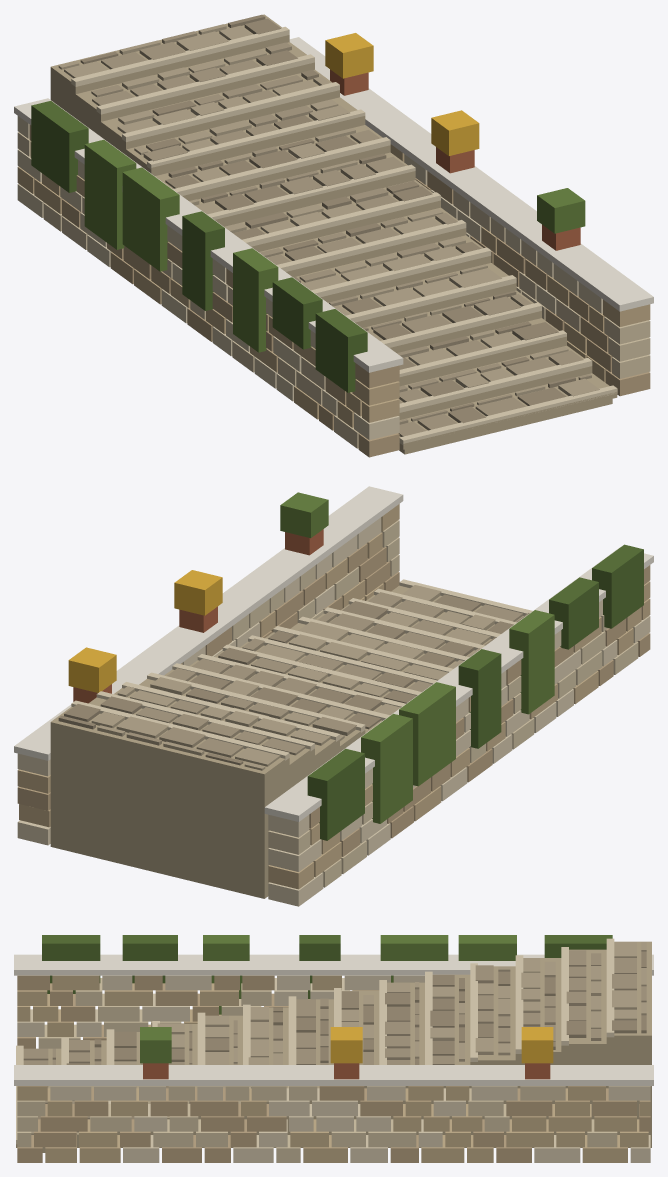
The model's file is merdivenli-sokak.glb.
3 renders of one model, top to bottom at view 1: azimuth 30°, elevation 25°; view 2: azimuth 150°, elevation 25°; view 3: azimuth 270°, elevation 25°, orthographic. The views are drawn at different scales.
Visible parts, largest first — view 1: tas4, harc, yol2, yol, badana, asma, asma2, yol3, tas3, tas2, tas1, cicek2 (+1 smaller); view 2: harc, tas4, badana, asma, asma2, yol2, yol, tas3, tas2, yol3, tas1, cicek2 (+1 smaller); view 3: tas4, badana, tas2, tas3, harc, tas1, yol2, yol, yol3, asma, asma2, cicek2 (+1 smaller).
Part boxes in pixels (x1=…): tas4: x1=17, y1=26, x2=617, y2=445; harc: x1=50, y1=14, x2=617, y2=454; yol2: x1=58, y1=24, x2=599, y2=396; yol: x1=91, y1=31, x2=591, y2=436; badana: x1=14, y1=37, x2=653, y2=372; asma: x1=84, y1=139, x2=585, y2=352; asma2: x1=31, y1=101, x2=367, y2=392; yol3: x1=80, y1=14, x2=575, y2=422; tas3: x1=29, y1=125, x2=650, y2=457; tas2: x1=17, y1=142, x2=650, y2=427; tas1: x1=17, y1=132, x2=650, y2=448; cicek2: x1=325, y1=33, x2=479, y2=155; harc: x1=50, y1=585, x2=523, y2=898; tas4: x1=17, y1=517, x2=650, y2=906; badana: x1=14, y1=486, x2=653, y2=821; asma: x1=280, y1=492, x2=554, y2=823; asma2: x1=307, y1=544, x2=643, y2=840; yol2: x1=91, y1=585, x2=495, y2=770; yol: x1=126, y1=592, x2=522, y2=757; tas3: x1=17, y1=543, x2=650, y2=856; tas2: x1=17, y1=504, x2=650, y2=889; yol3: x1=58, y1=594, x2=529, y2=765; tas1: x1=232, y1=520, x2=638, y2=887; cicek2: x1=68, y1=570, x2=222, y2=692; tas4: x1=16, y1=938, x2=650, y2=1162; badana: x1=14, y1=954, x2=653, y2=1085; tas2: x1=17, y1=975, x2=650, y2=1162; tas3: x1=17, y1=975, x2=650, y2=1162; harc: x1=16, y1=941, x2=651, y2=1152; tas1: x1=17, y1=978, x2=617, y2=1162; yol2: x1=31, y1=942, x2=646, y2=1134; yol: x1=23, y1=950, x2=646, y2=1132; yol3: x1=38, y1=951, x2=646, y2=1119; asma: x1=140, y1=935, x2=516, y2=1063; asma2: x1=42, y1=935, x2=612, y2=998; cicek2: x1=330, y1=1027, x2=553, y2=1063.
Size of the model in its own units: 4.77 by 2.26 by 10.06.
